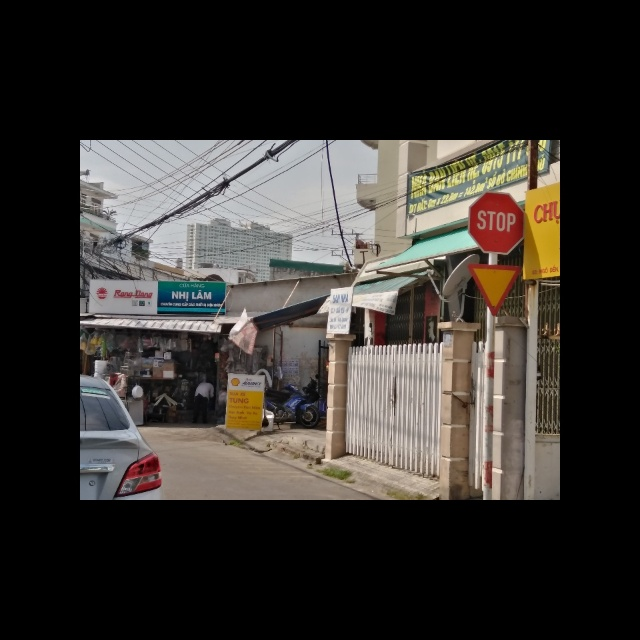Dừng lại: (469, 189, 524, 252)
Giao nhau với đường ưu tiên: (468, 263, 522, 316)
